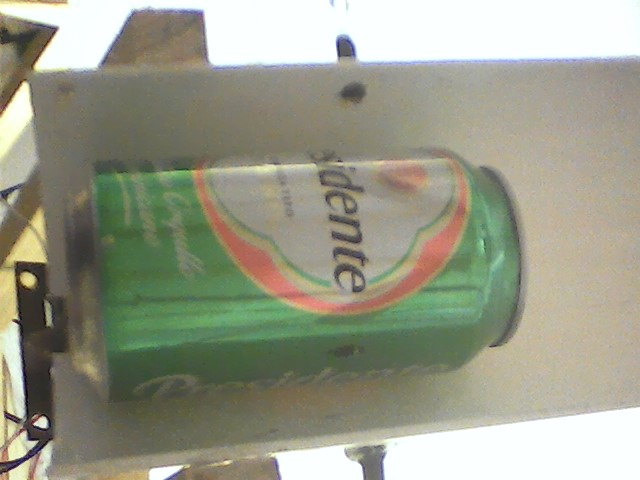lata: (55, 140, 540, 410)
